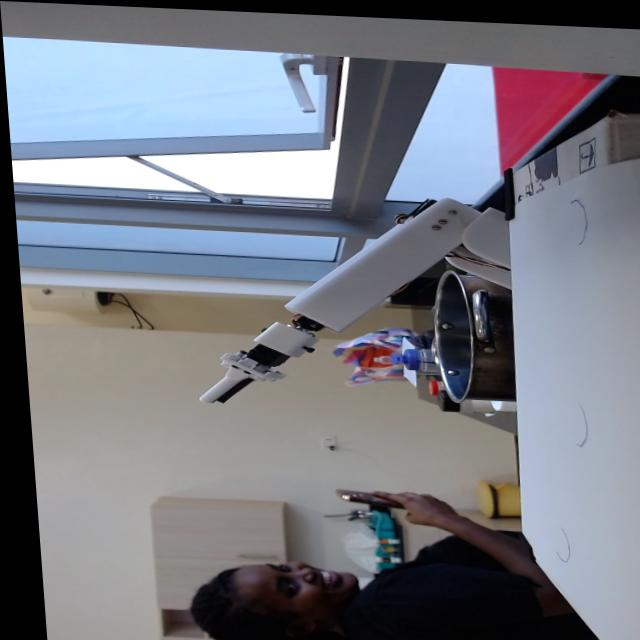cooking_pot: (401, 265, 518, 410)
